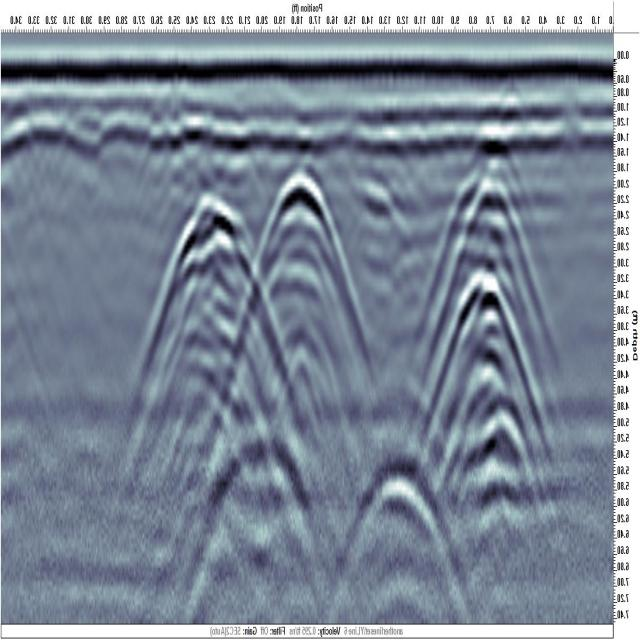hyperbola: (440, 155, 539, 382), (155, 182, 268, 358), (245, 159, 358, 320), (448, 260, 534, 462), (348, 444, 446, 580)
